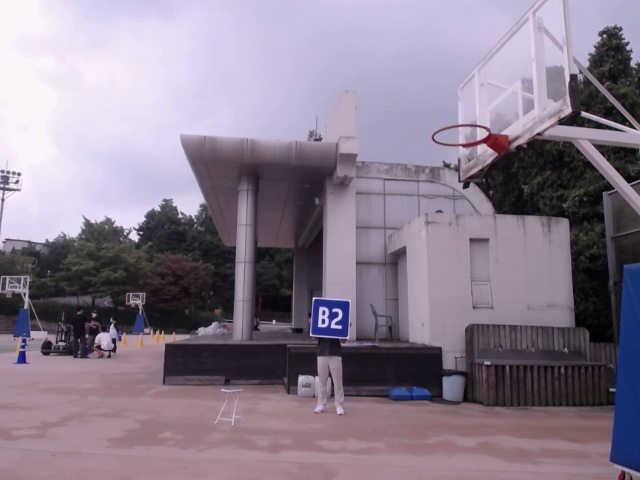delivery_b2: (312, 296, 350, 337)
